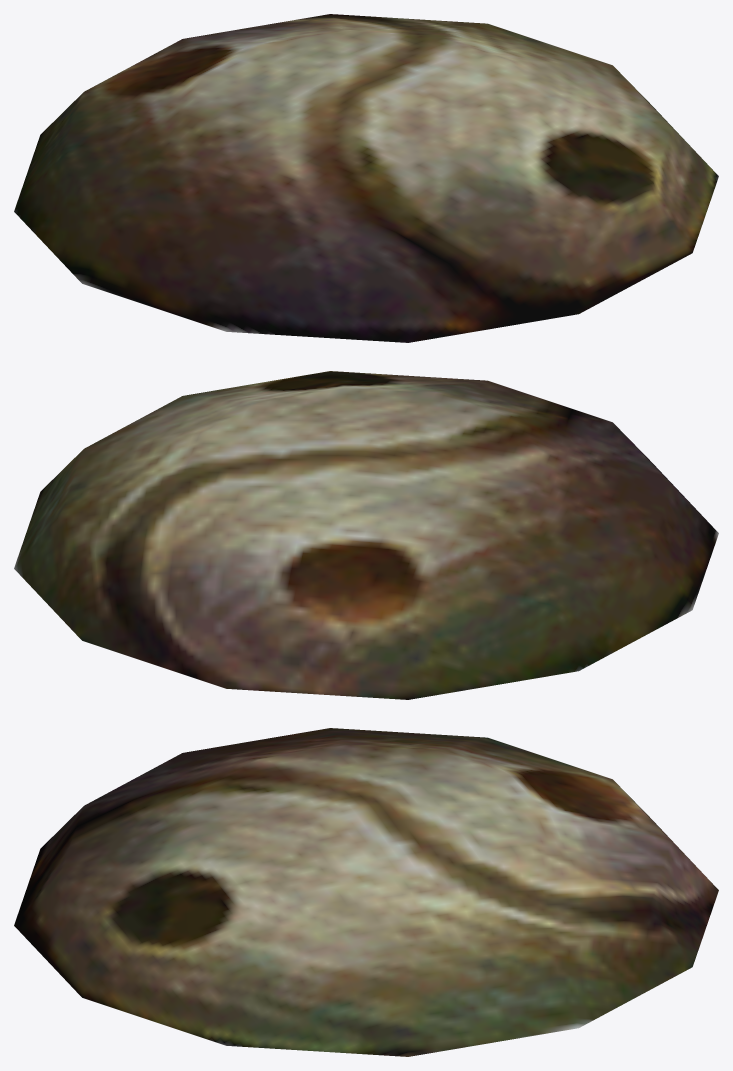
The model's file is jiguan.FBX.
3 views of the same model, one above another, from view 1: azimuth 30°, elevation 25°; view 2: azimuth 150°, elevation 25°; view 3: azimuth 270°, elevation 25° (orthographic).
Parts seen in each view (by area): view 1: jiguan; view 2: jiguan; view 3: jiguan.
Part boxes in pixels (bbox=[...]): jiguan: bbox=[14, 14, 718, 342]; jiguan: bbox=[14, 371, 718, 699]; jiguan: bbox=[14, 728, 718, 1056].
Bounding box in the file's own units: 203 × 32.45 × 203.
